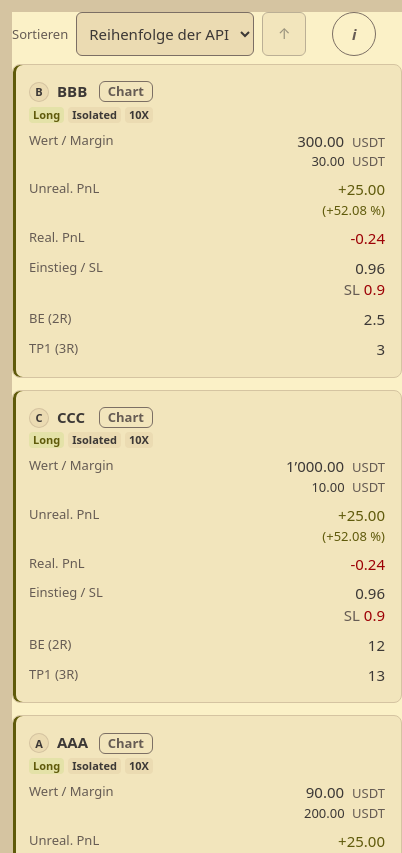
Test: OpenPositionsTable mobile Sortierung (AC8) › Auswahl sortiert aufsteigend, Richtungsknopf wechselt, "Reihenfolge der API" hebt auf
The width and height of the screenshot is (402, 853).
Expected: the button named "Richtung wechseln" is disabled, [262,12,306,56]
Select "Symbol" in the dropdown labelled "Sortieren" at (165, 34), box [76,12,254,56]
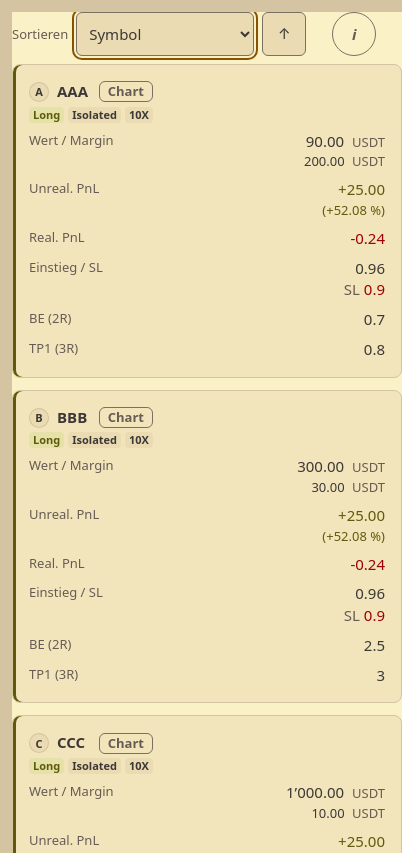
Click the button named "Richtung wechseln" at (284, 34), box [262,12,306,56]
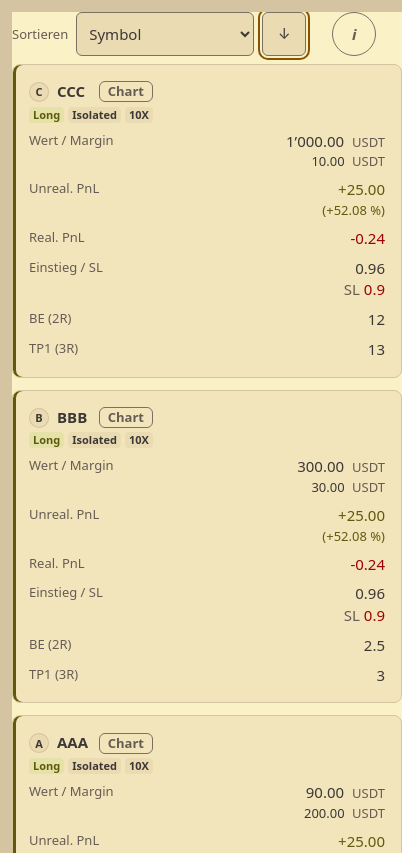
Select "Reihenfolge der API" in the dropdown labelled "Sortieren" at (165, 34), box [76,12,254,56]
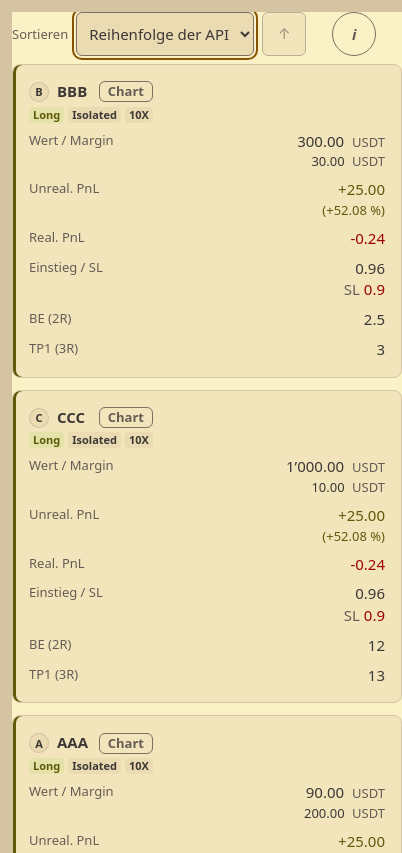
Expected: the button named "Richtung wechseln" is disabled, [262,12,306,56]
